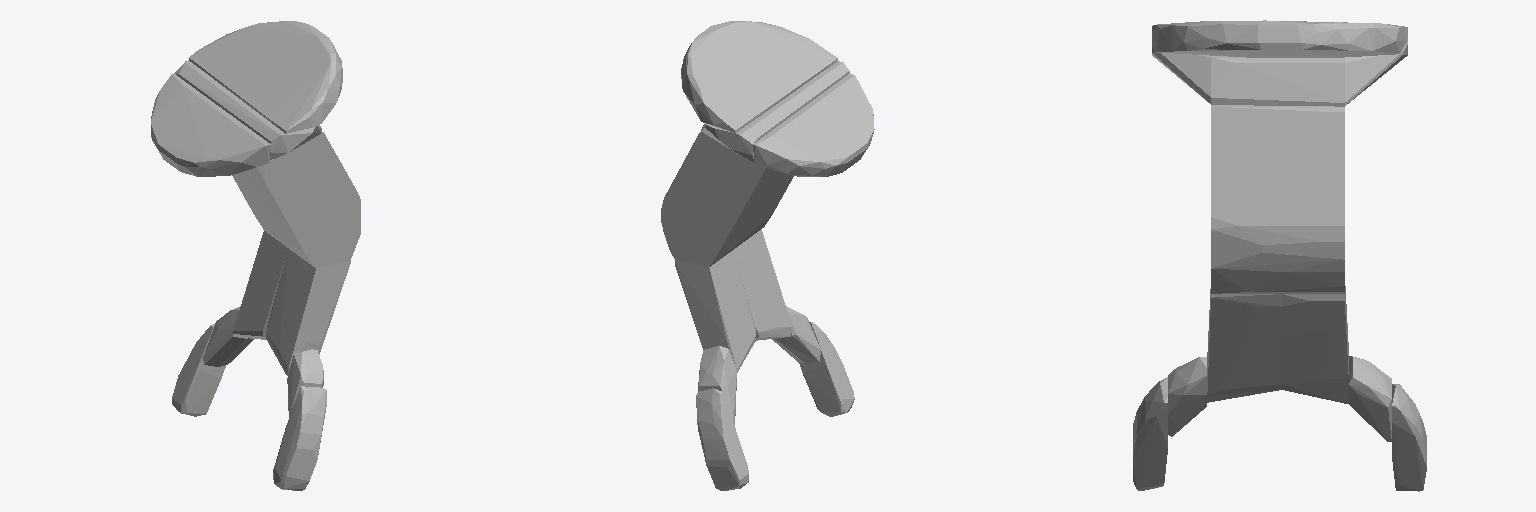
robot.urdf — root:
<robot name="root">
  <link name="link_thingiverse~headphone_mount_1989562_convex_piece_0">
    <inertial>
      <origin rpy="0 0 0" xyz="0 0 0"/>
      <mass value="1.23E-01"/>
      <inertia ixx="3.35E-05" ixy="-1.98E-09" ixz="-8.46E-06" iyy="3.53E-05" iyz="-2.57E-08" izz="2.56E-05"/>
    </inertial>
    <visual>
      <origin rpy="0 0 0" xyz="0 0 0"/>
      <geometry>
        <mesh filename="thingiverse~headphone_mount_1989562_convex_piece_0.obj" scale="1.0000E+00 1.0000E+00 1.0000E+00"/>
      </geometry>
      <material name="">
        <color rgba="7.50E-01 7.50E-01 7.50E-01 1"/>
      </material>
    </visual>
    <collision>
      <origin rpy="0 0 0" xyz="0 0 0"/>
      <geometry>
        <mesh filename="thingiverse~headphone_mount_1989562_convex_piece_0.obj" scale="1.0000E+00 1.0000E+00 1.0000E+00"/>
      </geometry>
    </collision>
  </link>
  <link name="link_thingiverse~headphone_mount_1989562_convex_piece_1">
    <inertial>
      <origin rpy="0 0 0" xyz="0 0 0"/>
      <mass value="2.25E-02"/>
      <inertia ixx="4.43E-05" ixy="-1.06E-06" ixz="-4.56E-06" iyy="4.32E-05" iyz="8.44E-06" izz="3.67E-06"/>
    </inertial>
    <visual>
      <origin rpy="0 0 0" xyz="0 0 0"/>
      <geometry>
        <mesh filename="thingiverse~headphone_mount_1989562_convex_piece_1.obj" scale="1.0000E+00 1.0000E+00 1.0000E+00"/>
      </geometry>
      <material name="">
        <color rgba="7.50E-01 7.50E-01 7.50E-01 1"/>
      </material>
    </visual>
    <collision>
      <origin rpy="0 0 0" xyz="0 0 0"/>
      <geometry>
        <mesh filename="thingiverse~headphone_mount_1989562_convex_piece_1.obj" scale="1.0000E+00 1.0000E+00 1.0000E+00"/>
      </geometry>
    </collision>
  </link>
  <joint name="link_thingiverse~headphone_mount_1989562_convex_piece_1_joint" type="fixed">
    <origin rpy="0 0 0" xyz="0 0 0"/>
    <parent link="link_thingiverse~headphone_mount_1989562_convex_piece_0"/>
    <child link="link_thingiverse~headphone_mount_1989562_convex_piece_1"/>
  </joint>
  <link name="link_thingiverse~headphone_mount_1989562_convex_piece_2">
    <inertial>
      <origin rpy="0 0 0" xyz="0 0 0"/>
      <mass value="2.02E-02"/>
      <inertia ixx="3.97E-05" ixy="1.07E-06" ixz="-4.29E-06" iyy="3.87E-05" iyz="-8.01E-06" izz="3.43E-06"/>
    </inertial>
    <visual>
      <origin rpy="0 0 0" xyz="0 0 0"/>
      <geometry>
        <mesh filename="thingiverse~headphone_mount_1989562_convex_piece_2.obj" scale="1.0000E+00 1.0000E+00 1.0000E+00"/>
      </geometry>
      <material name="">
        <color rgba="7.50E-01 7.50E-01 7.50E-01 1"/>
      </material>
    </visual>
    <collision>
      <origin rpy="0 0 0" xyz="0 0 0"/>
      <geometry>
        <mesh filename="thingiverse~headphone_mount_1989562_convex_piece_2.obj" scale="1.0000E+00 1.0000E+00 1.0000E+00"/>
      </geometry>
    </collision>
  </link>
  <joint name="link_thingiverse~headphone_mount_1989562_convex_piece_2_joint" type="fixed">
    <origin rpy="0 0 0" xyz="0 0 0"/>
    <parent link="link_thingiverse~headphone_mount_1989562_convex_piece_1"/>
    <child link="link_thingiverse~headphone_mount_1989562_convex_piece_2"/>
  </joint>
  <link name="link_thingiverse~headphone_mount_1989562_convex_piece_3">
    <inertial>
      <origin rpy="0 0 0" xyz="0 0 0"/>
      <mass value="3.37E-02"/>
      <inertia ixx="6.31E-05" ixy="8.93E-08" ixz="4.19E-06" iyy="5.67E-05" iyz="-1.30E-07" izz="1.08E-05"/>
    </inertial>
    <visual>
      <origin rpy="0 0 0" xyz="0 0 0"/>
      <geometry>
        <mesh filename="thingiverse~headphone_mount_1989562_convex_piece_3.obj" scale="1.0000E+00 1.0000E+00 1.0000E+00"/>
      </geometry>
      <material name="">
        <color rgba="7.50E-01 7.50E-01 7.50E-01 1"/>
      </material>
    </visual>
    <collision>
      <origin rpy="0 0 0" xyz="0 0 0"/>
      <geometry>
        <mesh filename="thingiverse~headphone_mount_1989562_convex_piece_3.obj" scale="1.0000E+00 1.0000E+00 1.0000E+00"/>
      </geometry>
    </collision>
  </link>
  <joint name="link_thingiverse~headphone_mount_1989562_convex_piece_3_joint" type="fixed">
    <origin rpy="0 0 0" xyz="0 0 0"/>
    <parent link="link_thingiverse~headphone_mount_1989562_convex_piece_2"/>
    <child link="link_thingiverse~headphone_mount_1989562_convex_piece_3"/>
  </joint>
  <link name="link_thingiverse~headphone_mount_1989562_convex_piece_4">
    <inertial>
      <origin rpy="0 0 0" xyz="0 0 0"/>
      <mass value="6.83E-03"/>
      <inertia ixx="5.04E-05" ixy="2.14E-06" ixz="5.32E-06" iyy="4.39E-05" iyz="1.76E-05" izz="7.99E-06"/>
    </inertial>
    <visual>
      <origin rpy="0 0 0" xyz="0 0 0"/>
      <geometry>
        <mesh filename="thingiverse~headphone_mount_1989562_convex_piece_4.obj" scale="1.0000E+00 1.0000E+00 1.0000E+00"/>
      </geometry>
      <material name="">
        <color rgba="7.50E-01 7.50E-01 7.50E-01 1"/>
      </material>
    </visual>
    <collision>
      <origin rpy="0 0 0" xyz="0 0 0"/>
      <geometry>
        <mesh filename="thingiverse~headphone_mount_1989562_convex_piece_4.obj" scale="1.0000E+00 1.0000E+00 1.0000E+00"/>
      </geometry>
    </collision>
  </link>
  <joint name="link_thingiverse~headphone_mount_1989562_convex_piece_4_joint" type="fixed">
    <origin rpy="0 0 0" xyz="0 0 0"/>
    <parent link="link_thingiverse~headphone_mount_1989562_convex_piece_3"/>
    <child link="link_thingiverse~headphone_mount_1989562_convex_piece_4"/>
  </joint>
  <link name="link_thingiverse~headphone_mount_1989562_convex_piece_5">
    <inertial>
      <origin rpy="0 0 0" xyz="0 0 0"/>
      <mass value="3.99E-03"/>
      <inertia ixx="1.82E-05" ixy="2.71E-07" ixz="7.12E-07" iyy="1.60E-05" iyz="5.98E-06" izz="2.33E-06"/>
    </inertial>
    <visual>
      <origin rpy="0 0 0" xyz="0 0 0"/>
      <geometry>
        <mesh filename="thingiverse~headphone_mount_1989562_convex_piece_5.obj" scale="1.0000E+00 1.0000E+00 1.0000E+00"/>
      </geometry>
      <material name="">
        <color rgba="7.50E-01 7.50E-01 7.50E-01 1"/>
      </material>
    </visual>
    <collision>
      <origin rpy="0 0 0" xyz="0 0 0"/>
      <geometry>
        <mesh filename="thingiverse~headphone_mount_1989562_convex_piece_5.obj" scale="1.0000E+00 1.0000E+00 1.0000E+00"/>
      </geometry>
    </collision>
  </link>
  <joint name="link_thingiverse~headphone_mount_1989562_convex_piece_5_joint" type="fixed">
    <origin rpy="0 0 0" xyz="0 0 0"/>
    <parent link="link_thingiverse~headphone_mount_1989562_convex_piece_4"/>
    <child link="link_thingiverse~headphone_mount_1989562_convex_piece_5"/>
  </joint>
  <link name="link_thingiverse~headphone_mount_1989562_convex_piece_6">
    <inertial>
      <origin rpy="0 0 0" xyz="0 0 0"/>
      <mass value="4.50E-03"/>
      <inertia ixx="2.07E-05" ixy="-2.54E-07" ixz="6.66E-07" iyy="1.82E-05" iyz="-6.79E-06" izz="2.64E-06"/>
    </inertial>
    <visual>
      <origin rpy="0 0 0" xyz="0 0 0"/>
      <geometry>
        <mesh filename="thingiverse~headphone_mount_1989562_convex_piece_6.obj" scale="1.0000E+00 1.0000E+00 1.0000E+00"/>
      </geometry>
      <material name="">
        <color rgba="7.50E-01 7.50E-01 7.50E-01 1"/>
      </material>
    </visual>
    <collision>
      <origin rpy="0 0 0" xyz="0 0 0"/>
      <geometry>
        <mesh filename="thingiverse~headphone_mount_1989562_convex_piece_6.obj" scale="1.0000E+00 1.0000E+00 1.0000E+00"/>
      </geometry>
    </collision>
  </link>
  <joint name="link_thingiverse~headphone_mount_1989562_convex_piece_6_joint" type="fixed">
    <origin rpy="0 0 0" xyz="0 0 0"/>
    <parent link="link_thingiverse~headphone_mount_1989562_convex_piece_5"/>
    <child link="link_thingiverse~headphone_mount_1989562_convex_piece_6"/>
  </joint>
  <link name="link_thingiverse~headphone_mount_1989562_convex_piece_7">
    <inertial>
      <origin rpy="0 0 0" xyz="0 0 0"/>
      <mass value="6.47E-03"/>
      <inertia ixx="4.85E-05" ixy="-1.89E-06" ixz="4.68E-06" iyy="4.21E-05" iyz="-1.70E-05" izz="7.64E-06"/>
    </inertial>
    <visual>
      <origin rpy="0 0 0" xyz="0 0 0"/>
      <geometry>
        <mesh filename="thingiverse~headphone_mount_1989562_convex_piece_7.obj" scale="1.0000E+00 1.0000E+00 1.0000E+00"/>
      </geometry>
      <material name="">
        <color rgba="7.50E-01 7.50E-01 7.50E-01 1"/>
      </material>
    </visual>
    <collision>
      <origin rpy="0 0 0" xyz="0 0 0"/>
      <geometry>
        <mesh filename="thingiverse~headphone_mount_1989562_convex_piece_7.obj" scale="1.0000E+00 1.0000E+00 1.0000E+00"/>
      </geometry>
    </collision>
  </link>
  <joint name="link_thingiverse~headphone_mount_1989562_convex_piece_7_joint" type="fixed">
    <origin rpy="0 0 0" xyz="0 0 0"/>
    <parent link="link_thingiverse~headphone_mount_1989562_convex_piece_6"/>
    <child link="link_thingiverse~headphone_mount_1989562_convex_piece_7"/>
  </joint>
  <link name="link_thingiverse~headphone_mount_1989562_convex_piece_8">
    <inertial>
      <origin rpy="0 0 0" xyz="0 0 0"/>
      <mass value="2.25E-02"/>
      <inertia ixx="1.78E-05" ixy="-7.05E-08" ixz="-1.49E-05" iyy="3.19E-05" iyz="5.32E-08" izz="2.41E-05"/>
    </inertial>
    <visual>
      <origin rpy="0 0 0" xyz="0 0 0"/>
      <geometry>
        <mesh filename="thingiverse~headphone_mount_1989562_convex_piece_8.obj" scale="1.0000E+00 1.0000E+00 1.0000E+00"/>
      </geometry>
      <material name="">
        <color rgba="7.50E-01 7.50E-01 7.50E-01 1"/>
      </material>
    </visual>
    <collision>
      <origin rpy="0 0 0" xyz="0 0 0"/>
      <geometry>
        <mesh filename="thingiverse~headphone_mount_1989562_convex_piece_8.obj" scale="1.0000E+00 1.0000E+00 1.0000E+00"/>
      </geometry>
    </collision>
  </link>
  <joint name="link_thingiverse~headphone_mount_1989562_convex_piece_8_joint" type="fixed">
    <origin rpy="0 0 0" xyz="0 0 0"/>
    <parent link="link_thingiverse~headphone_mount_1989562_convex_piece_7"/>
    <child link="link_thingiverse~headphone_mount_1989562_convex_piece_8"/>
  </joint>
  <link name="link_thingiverse~headphone_mount_1989562_convex_piece_9">
    <inertial>
      <origin rpy="0 0 0" xyz="0 0 0"/>
      <mass value="4.41E-02"/>
      <inertia ixx="4.88E-05" ixy="-1.17E-07" ixz="-1.02E-05" iyy="4.15E-05" iyz="4.99E-07" izz="1.74E-05"/>
    </inertial>
    <visual>
      <origin rpy="0 0 0" xyz="0 0 0"/>
      <geometry>
        <mesh filename="thingiverse~headphone_mount_1989562_convex_piece_9.obj" scale="1.0000E+00 1.0000E+00 1.0000E+00"/>
      </geometry>
      <material name="">
        <color rgba="7.50E-01 7.50E-01 7.50E-01 1"/>
      </material>
    </visual>
    <collision>
      <origin rpy="0 0 0" xyz="0 0 0"/>
      <geometry>
        <mesh filename="thingiverse~headphone_mount_1989562_convex_piece_9.obj" scale="1.0000E+00 1.0000E+00 1.0000E+00"/>
      </geometry>
    </collision>
  </link>
  <joint name="link_thingiverse~headphone_mount_1989562_convex_piece_9_joint" type="fixed">
    <origin rpy="0 0 0" xyz="0 0 0"/>
    <parent link="link_thingiverse~headphone_mount_1989562_convex_piece_8"/>
    <child link="link_thingiverse~headphone_mount_1989562_convex_piece_9"/>
  </joint>
</robot>

--- What the picture shows (computed from the rendered views, not written in the file) ---
Views: 3 orthographic renders of the robot side by side, from view 1: azimuth 30°, elevation 25°; view 2: azimuth 150°, elevation 25°; view 3: azimuth 270°, elevation 25°.
Robot: root — 10 links, 9 joints (9 fixed); root link link_thingiverse~headphone_mount_1989562_convex_piece_0; default pose: every joint at zero.
Visible links, largest first — view 1: link_thingiverse~headphone_mount_1989562_convex_piece_3, link_thingiverse~headphone_mount_1989562_convex_piece_0, link_thingiverse~headphone_mount_1989562_convex_piece_8, link_thingiverse~headphone_mount_1989562_convex_piece_1, link_thingiverse~headphone_mount_1989562_convex_piece_4, link_thingiverse~headphone_mount_1989562_convex_piece_2, link_thingiverse~headphone_mount_1989562_convex_piece_9, link_thingiverse~headphone_mount_1989562_convex_piece_7, link_thingiverse~headphone_mount_1989562_convex_piece_6, link_thingiverse~headphone_mount_1989562_convex_piece_5; view 2: link_thingiverse~headphone_mount_1989562_convex_piece_3, link_thingiverse~headphone_mount_1989562_convex_piece_0, link_thingiverse~headphone_mount_1989562_convex_piece_8, link_thingiverse~headphone_mount_1989562_convex_piece_2, link_thingiverse~headphone_mount_1989562_convex_piece_7, link_thingiverse~headphone_mount_1989562_convex_piece_1, link_thingiverse~headphone_mount_1989562_convex_piece_9, link_thingiverse~headphone_mount_1989562_convex_piece_4, link_thingiverse~headphone_mount_1989562_convex_piece_6, link_thingiverse~headphone_mount_1989562_convex_piece_5; view 3: link_thingiverse~headphone_mount_1989562_convex_piece_0, link_thingiverse~headphone_mount_1989562_convex_piece_9, link_thingiverse~headphone_mount_1989562_convex_piece_3, link_thingiverse~headphone_mount_1989562_convex_piece_1, link_thingiverse~headphone_mount_1989562_convex_piece_2, link_thingiverse~headphone_mount_1989562_convex_piece_4, link_thingiverse~headphone_mount_1989562_convex_piece_7, link_thingiverse~headphone_mount_1989562_convex_piece_6, link_thingiverse~headphone_mount_1989562_convex_piece_5.
Boxes of the visible links, x1,y1,x2,y2 form: link_thingiverse~headphone_mount_1989562_convex_piece_3: [189, 21, 342, 133]; link_thingiverse~headphone_mount_1989562_convex_piece_0: [232, 132, 360, 267]; link_thingiverse~headphone_mount_1989562_convex_piece_8: [151, 74, 270, 176]; link_thingiverse~headphone_mount_1989562_convex_piece_1: [266, 248, 350, 375]; link_thingiverse~headphone_mount_1989562_convex_piece_4: [273, 386, 326, 490]; link_thingiverse~headphone_mount_1989562_convex_piece_2: [233, 231, 287, 339]; link_thingiverse~headphone_mount_1989562_convex_piece_9: [174, 60, 321, 159]; link_thingiverse~headphone_mount_1989562_convex_piece_7: [172, 324, 225, 416]; link_thingiverse~headphone_mount_1989562_convex_piece_6: [203, 306, 253, 366]; link_thingiverse~headphone_mount_1989562_convex_piece_5: [287, 349, 323, 416]; link_thingiverse~headphone_mount_1989562_convex_piece_3: [681, 21, 837, 132]; link_thingiverse~headphone_mount_1989562_convex_piece_0: [661, 132, 793, 266]; link_thingiverse~headphone_mount_1989562_convex_piece_8: [753, 74, 874, 176]; link_thingiverse~headphone_mount_1989562_convex_piece_2: [675, 250, 755, 372]; link_thingiverse~headphone_mount_1989562_convex_piece_7: [696, 388, 748, 490]; link_thingiverse~headphone_mount_1989562_convex_piece_1: [734, 229, 791, 340]; link_thingiverse~headphone_mount_1989562_convex_piece_9: [701, 61, 849, 162]; link_thingiverse~headphone_mount_1989562_convex_piece_4: [799, 322, 854, 416]; link_thingiverse~headphone_mount_1989562_convex_piece_6: [698, 345, 736, 424]; link_thingiverse~headphone_mount_1989562_convex_piece_5: [772, 306, 820, 363]; link_thingiverse~headphone_mount_1989562_convex_piece_0: [1211, 105, 1344, 293]; link_thingiverse~headphone_mount_1989562_convex_piece_9: [1152, 41, 1407, 106]; link_thingiverse~headphone_mount_1989562_convex_piece_3: [1152, 20, 1407, 57]; link_thingiverse~headphone_mount_1989562_convex_piece_1: [1207, 289, 1281, 402]; link_thingiverse~headphone_mount_1989562_convex_piece_2: [1282, 286, 1348, 403]; link_thingiverse~headphone_mount_1989562_convex_piece_4: [1133, 377, 1167, 490]; link_thingiverse~headphone_mount_1989562_convex_piece_7: [1392, 384, 1426, 491]; link_thingiverse~headphone_mount_1989562_convex_piece_6: [1349, 356, 1391, 441]; link_thingiverse~headphone_mount_1989562_convex_piece_5: [1168, 357, 1206, 436].
Size in the robot's own frame: 0.0642 by 0.0753 by 0.1445 metres.
10 mesh visuals loaded from 10 distinct referenced files (10 OBJ).
